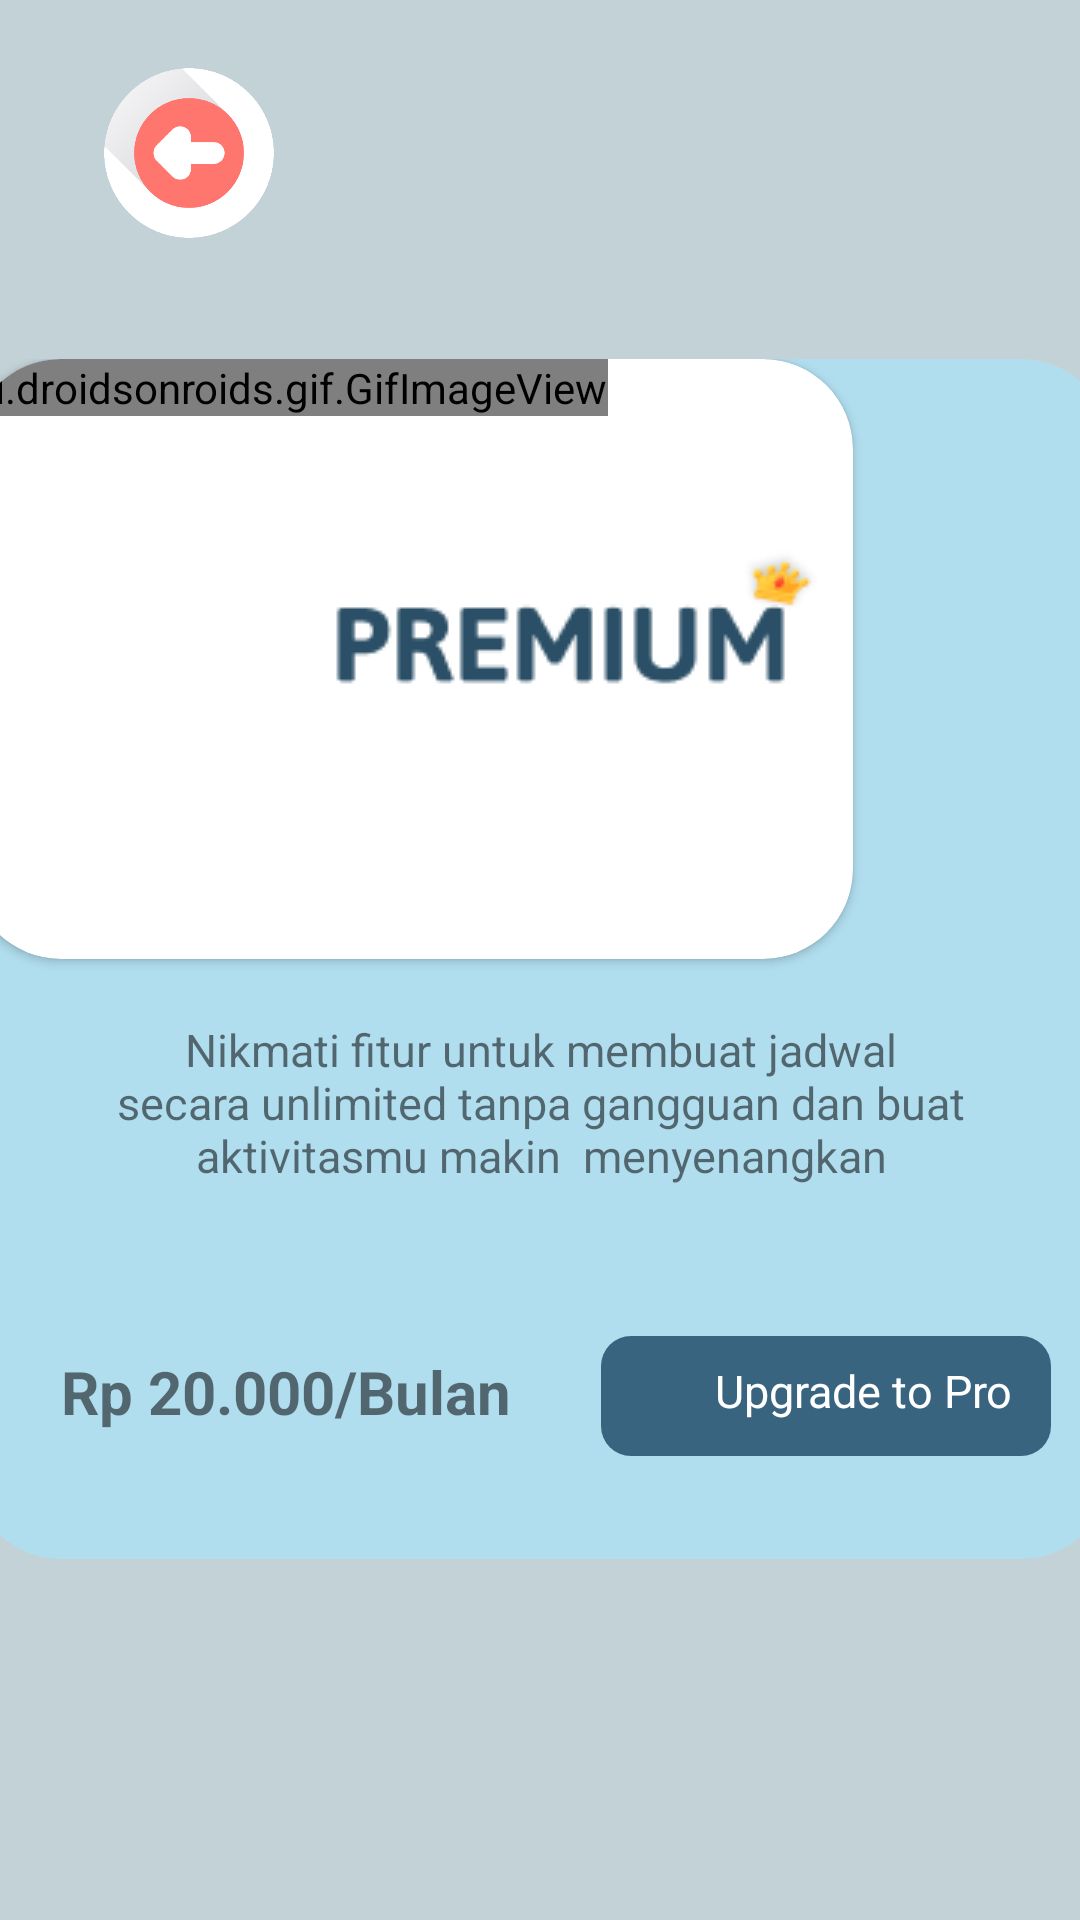

Named icons in this screenshot (1080*1920) and their bounding boxes, (x1,y1,x2,y2):
back: (104,68,274,238)
